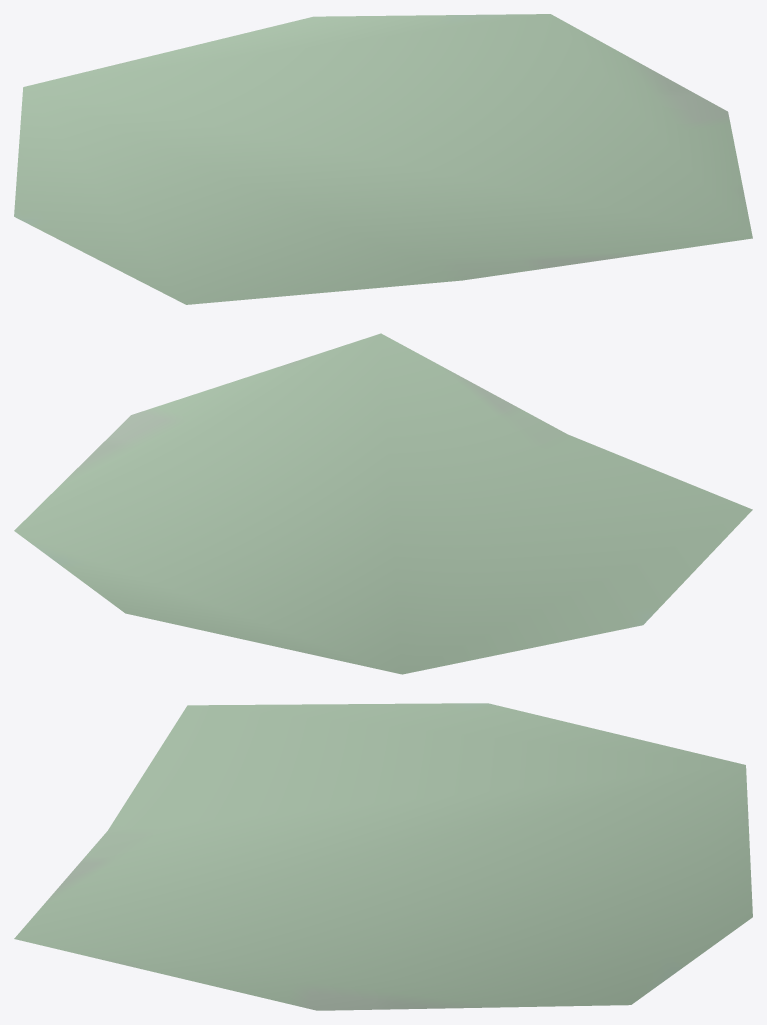
File: TROLLHOLE02_HOLECAP32.fbx
3 renders of one model, top to bottom at view 1: azimuth 30°, elevation 25°; view 2: azimuth 150°, elevation 25°; view 3: azimuth 270°, elevation 25°, orthographic. The views are drawn at different scales.
Parts seen in each view (by area): view 1: TROLLHOLE02_HOLECAP32; view 2: TROLLHOLE02_HOLECAP32; view 3: TROLLHOLE02_HOLECAP32.
Boxes of the visible parts, x1=… form: TROLLHOLE02_HOLECAP32: x1=14, y1=14, x2=752, y2=304; TROLLHOLE02_HOLECAP32: x1=14, y1=333, x2=752, y2=674; TROLLHOLE02_HOLECAP32: x1=14, y1=703, x2=752, y2=1010.
Size of the model in its own units: 23019 by 738 by 22522.
Materials: 1 (1 with a texture image).
